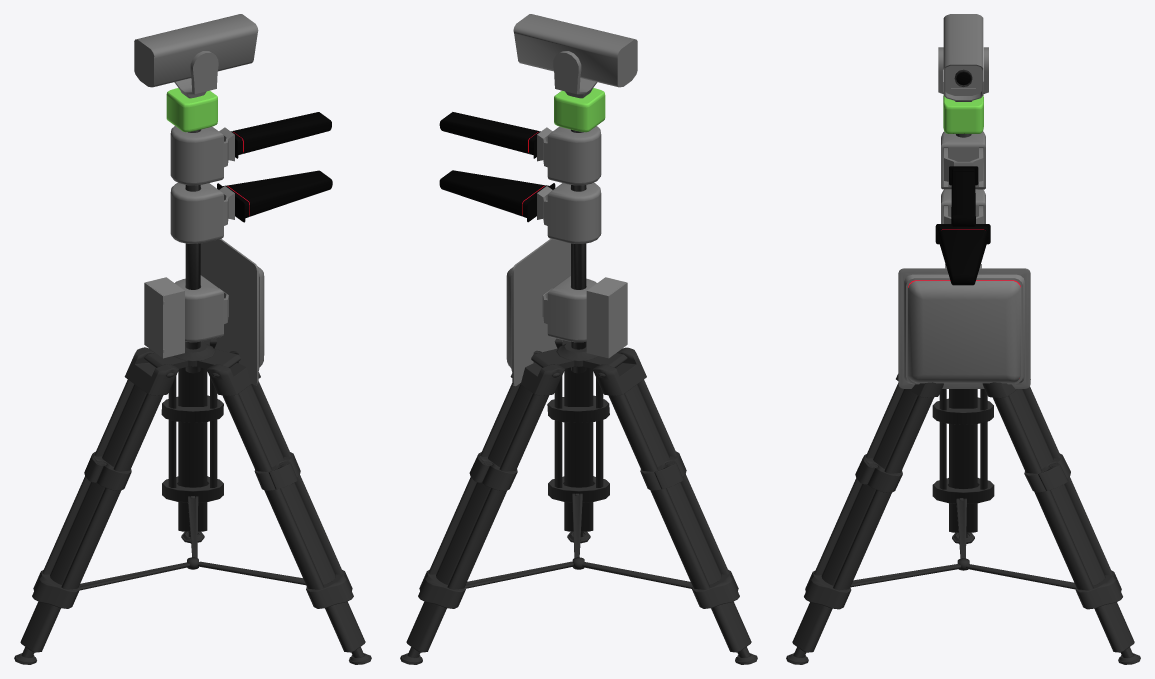
File: Мачта в сборе.fbx
3 views of the same model, side by side, from view 1: azimuth 30°, elevation 25°; view 2: azimuth 150°, elevation 25°; view 3: azimuth 270°, elevation 25° (orthographic).
Visible parts, largest first — view 1: Тренога.001, Камера.004, Широкополосная панельная антен.001, Вертикальное наведение.004, Горизонтальное наведение.002, Антенна GSM.001, Горизонтальное наведение.003, Антенна яги.001, Горизонтальное наведение.001, Корпус.015, Дверца.001, Мачта.001; view 2: Тренога.001, Камера.004, Широкополосная панельная антен.001, Вертикальное наведение.004, Горизонтальное наведение.002, Горизонтальное наведение.003, Антенна GSM.001, Антенна яги.001, Горизонтальное наведение.001, Корпус.015, Дверца.001, Мачта.001; view 3: Тренога.001, Широкополосная панельная антен.001, Камера.004, Антенна GSM.001, Вертикальное наведение.004, Антенна яги.001, Горизонтальное наведение.003, Горизонтальное наведение.002, Вертикальное наведение.003.
Part boxes in pixels (<box>): Тренога.001: <box>14,338,371,664</box>; Камера.004: <box>134,14,258,87</box>; Широкополосная панельная антен.001: <box>200,238,264,385</box>; Вертикальное наведение.004: <box>166,51,218,132</box>; Горизонтальное наведение.002: <box>170,183,223,243</box>; Антенна GSM.001: <box>217,170,332,222</box>; Горизонтальное наведение.003: <box>170,126,223,185</box>; Антенна яги.001: <box>231,112,331,158</box>; Горизонтальное наведение.001: <box>175,275,223,342</box>; Корпус.015: <box>145,277,184,357</box>; Дверца.001: <box>144,282,164,358</box>; Мачта.001: <box>185,129,200,373</box>; Тренога.001: <box>400,338,757,664</box>; Камера.004: <box>513,14,637,87</box>; Широкополосная панельная антен.001: <box>506,238,570,386</box>; Вертикальное наведение.004: <box>553,51,605,132</box>; Горизонтальное наведение.002: <box>547,182,601,243</box>; Горизонтальное наведение.003: <box>547,126,601,185</box>; Антенна GSM.001: <box>439,170,555,222</box>; Антенна яги.001: <box>439,112,540,158</box>; Горизонтальное наведение.001: <box>547,275,596,342</box>; Корпус.015: <box>586,277,625,357</box>; Дверца.001: <box>608,282,627,358</box>; Мачта.001: <box>571,129,586,373</box>; Тренога.001: <box>786,374,1140,664</box>; Широкополосная панельная антен.001: <box>898,268,1030,388</box>; Камера.004: <box>943,14,983,100</box>; Антенна GSM.001: <box>935,224,990,285</box>; Вертикальное наведение.004: <box>938,47,988,133</box>; Антенна яги.001: <box>949,166,978,226</box>; Горизонтальное наведение.003: <box>941,131,985,189</box>; Горизонтальное наведение.002: <box>941,189,985,223</box>; Вертикальное наведение.003: <box>944,148,983,181</box>.
Size of the model in its own units: 1.19 by 2.14 by 1.18.
